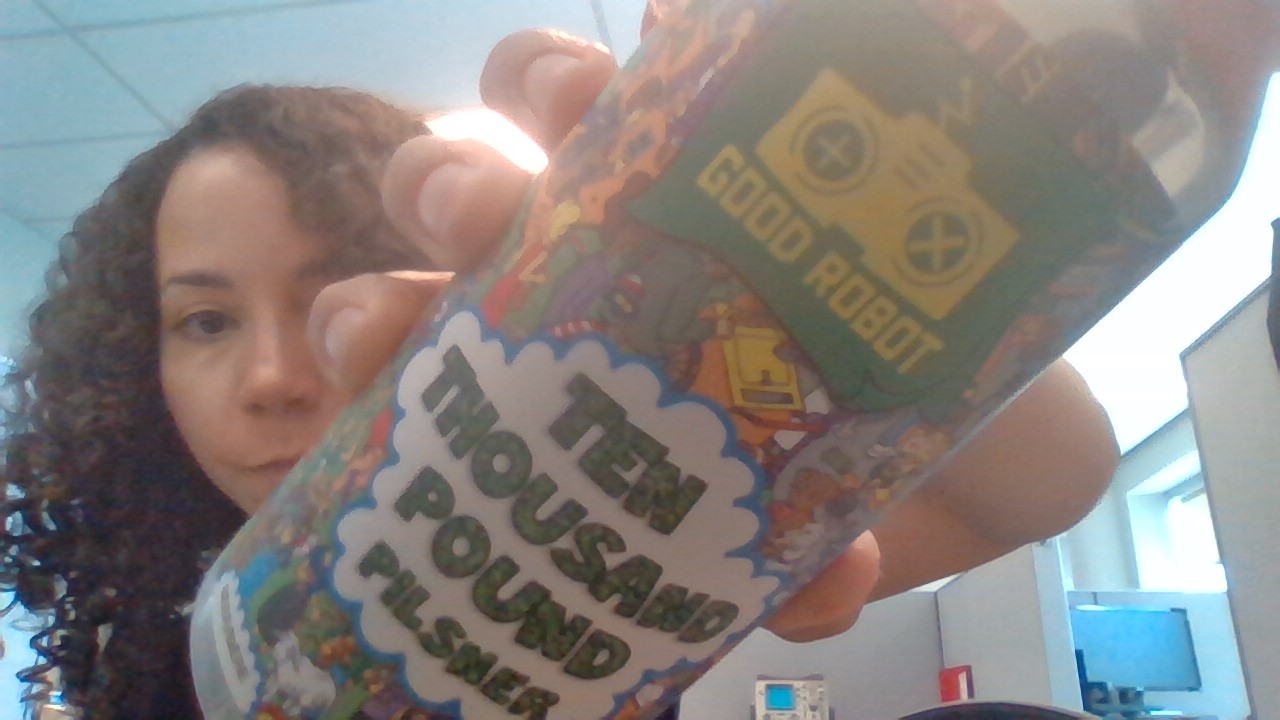Good Robot: (747, 43, 1026, 326)
